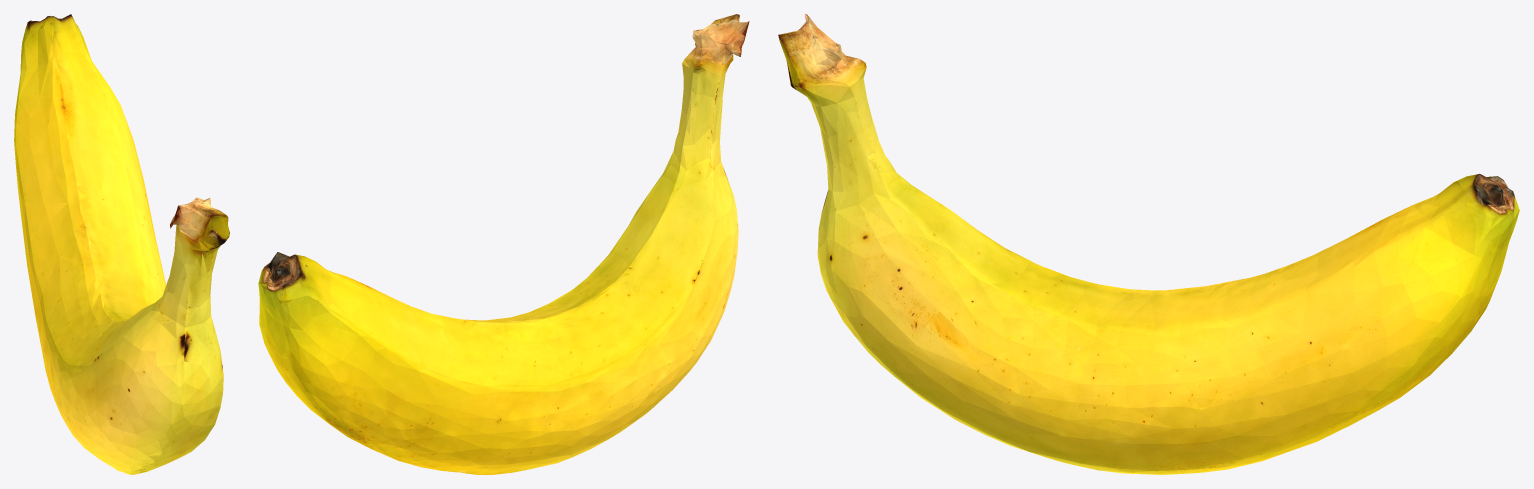
File: banana-transformed.glb
3 renders of one model, left to right at view 1: azimuth 30°, elevation 25°; view 2: azimuth 150°, elevation 25°; view 3: azimuth 270°, elevation 25°, orthographic. The views are drawn at different scales.
Visible parts, largest first — view 1: banana; view 2: banana; view 3: banana.
Part boxes in pixels (x1,y1,x2,y2): banana: (14,14,229,474); banana: (258,14,749,474); banana: (778,14,1519,474).
Size of the model in its own units: 2.82 by 4.14 by 6.74.
1 material, 1 textured.
